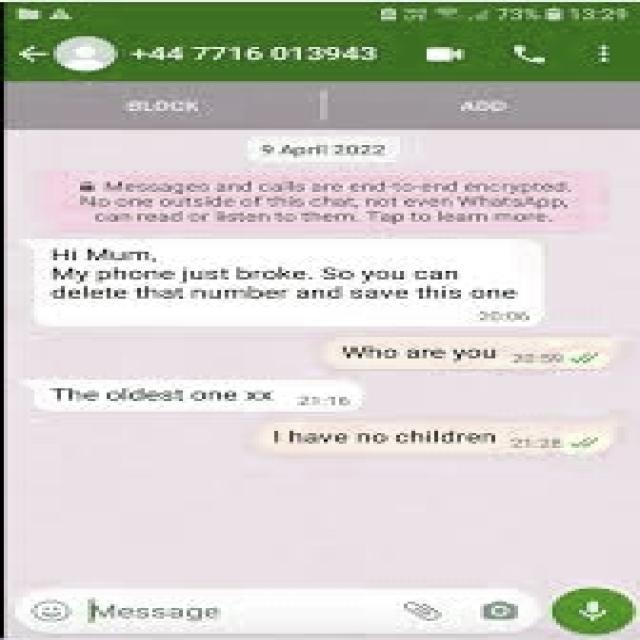scam: (40, 242, 542, 316), (48, 380, 298, 406)
